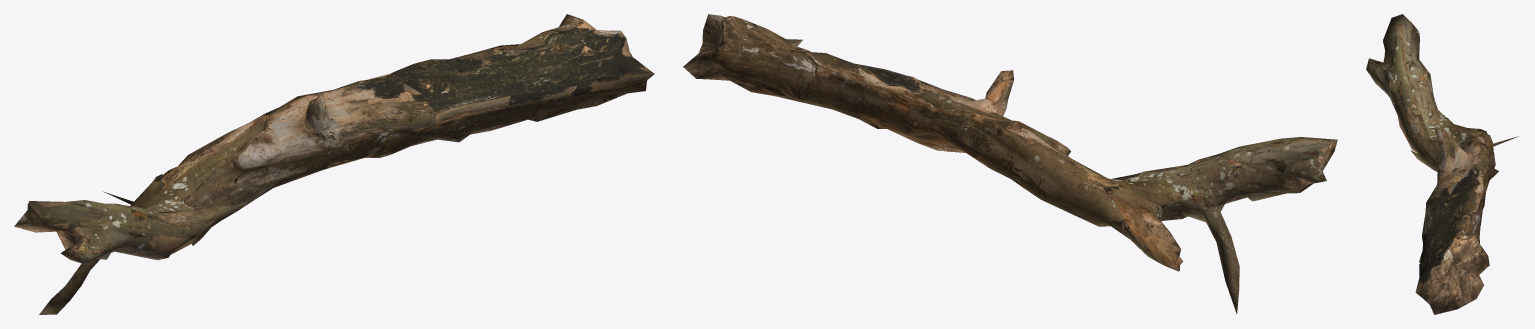
File: log.glb
3 views of the same model, side by side, from view 1: azimuth 30°, elevation 25°; view 2: azimuth 150°, elevation 25°; view 3: azimuth 270°, elevation 25° (orthographic). The views are drawn at different scales.
Parts seen in each view (by area): view 1: log; view 2: log; view 3: log.
Part boxes in pixels (x1,y1,x2,y2): log: (14,14,654,314); log: (683,14,1337,313); log: (1366,14,1518,314).
Bounding box in the file's own units: 4.03 × 1.04 × 1.04.
1 material, 1 textured.
